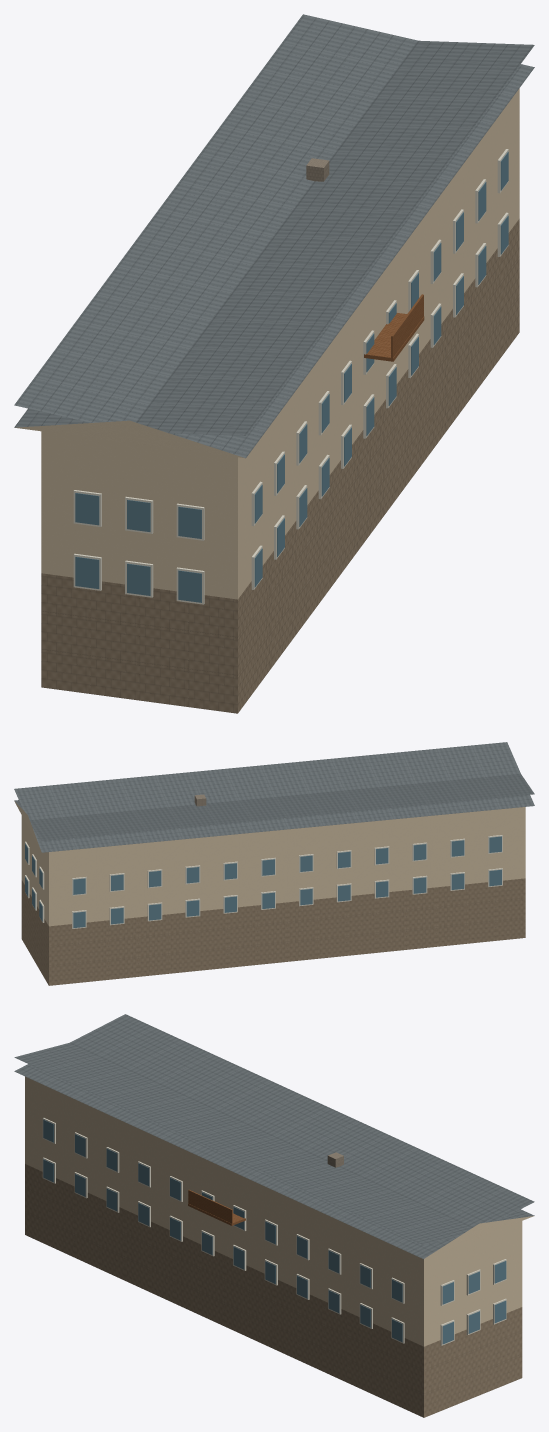
File: core_0020.gltf
3 views of the same model, one above another, from view 1: azimuth 30°, elevation 25°; view 2: azimuth 150°, elevation 25°; view 3: azimuth 270°, elevation 25° (orthographic). The views are drawn at different scales.
Parts seen in each view (by area): view 1: core_0020; view 2: core_0020; view 3: core_0020.
Boxes of the visible parts, bbox=[...] form: core_0020: bbox=[14, 14, 534, 713]; core_0020: bbox=[14, 742, 534, 985]; core_0020: bbox=[14, 1014, 534, 1417].
Size of the model in its own units: 35.53 by 12.85 by 33.83.
7 materials, 7 textured.
